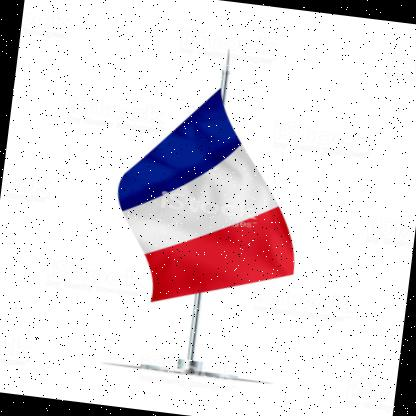fr: (107, 79, 315, 319)
